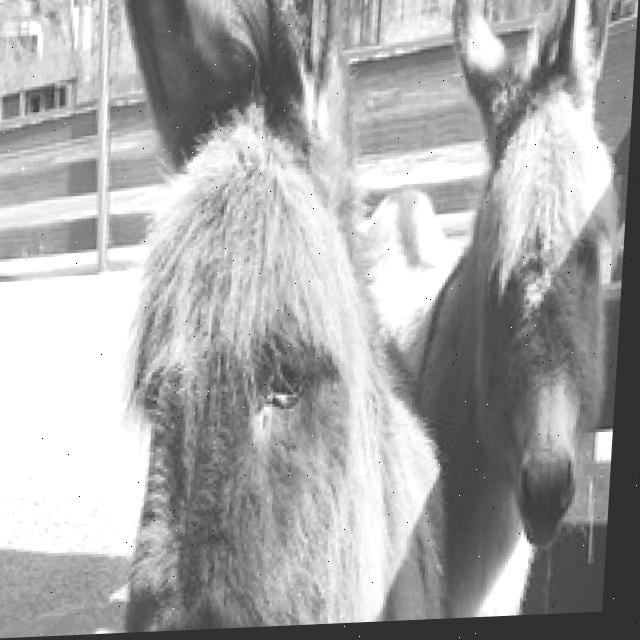Donkey: (76, 0, 637, 632), (396, 0, 637, 618)
